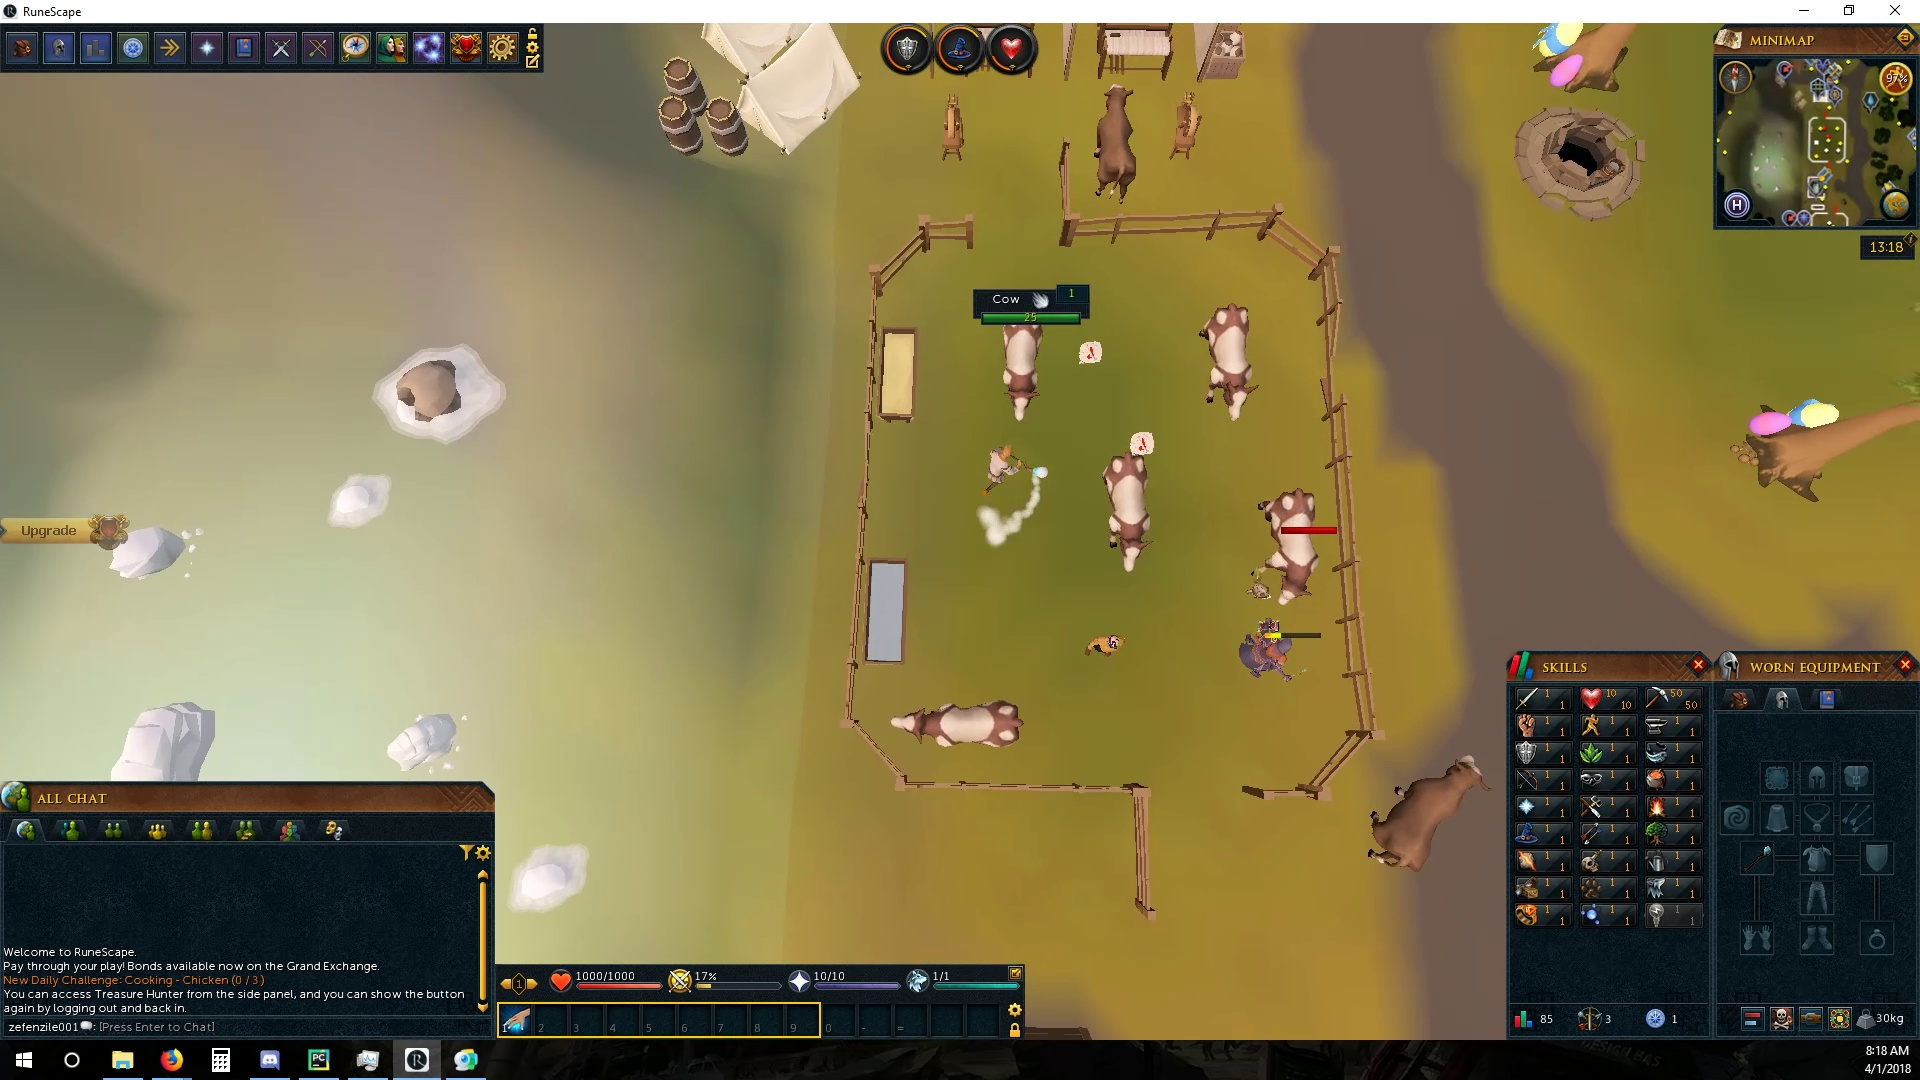cow: (1364, 753, 1495, 876), (1079, 80, 1147, 206), (1255, 487, 1323, 608), (1196, 301, 1261, 425), (889, 698, 1029, 750), (1100, 454, 1156, 575), (997, 323, 1047, 423)
cow_drop: (1126, 429, 1156, 459), (1077, 340, 1106, 368)
